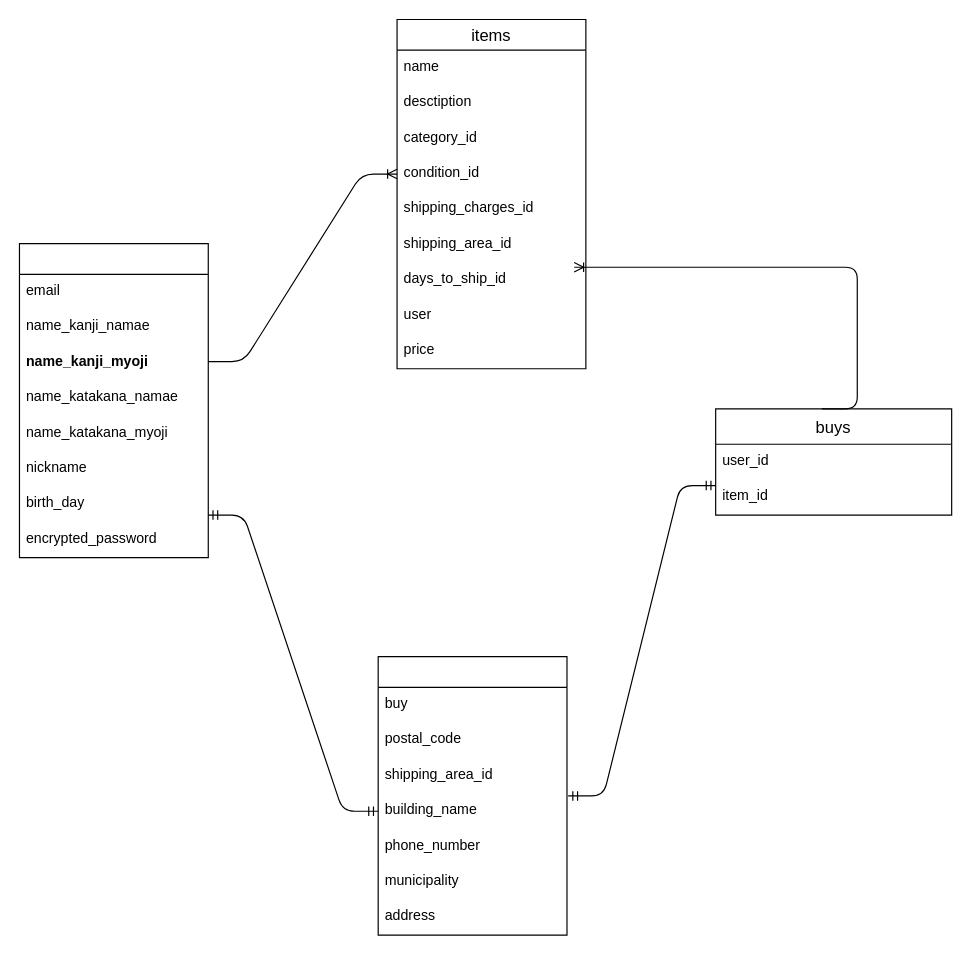
Some shapes in this 971 by 955 pixel diagram are drawn without their labels. The box of each missing label's shape, as (x1, y1, x2, y2) in pixels:
addresses: (377, 655, 567, 935)
users: (18, 242, 208, 558)
